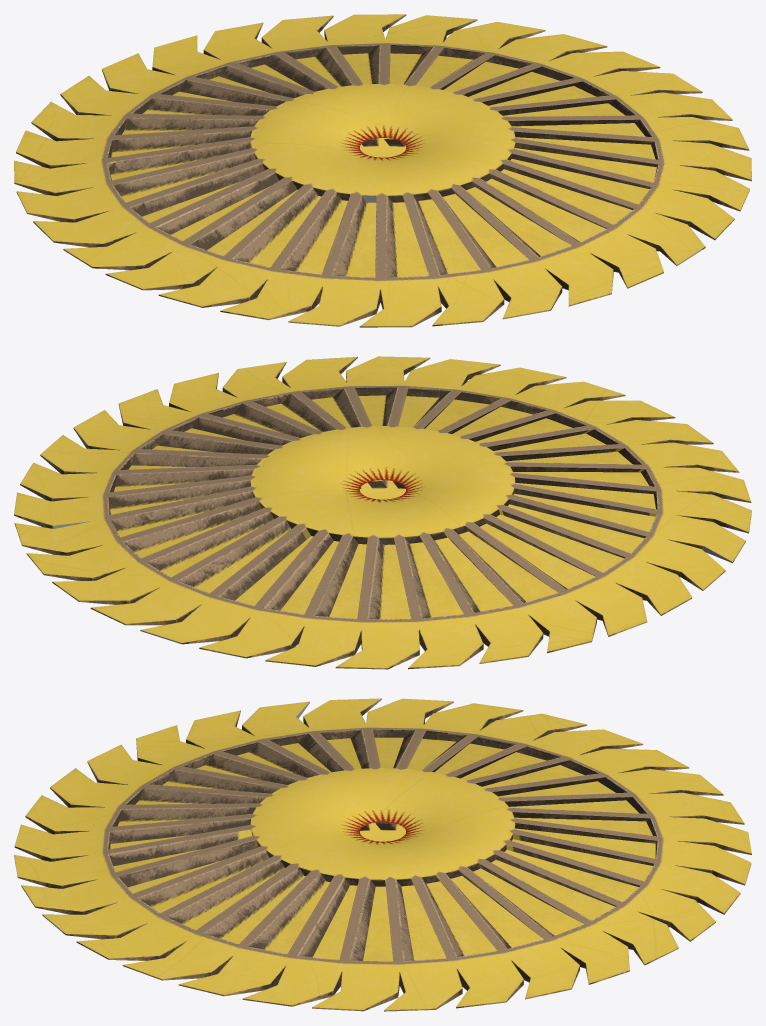
The model's file is Chakra.glb.
The picture shows the model from 3 angles, top to bottom: view 1: azimuth 30°, elevation 25°; view 2: azimuth 150°, elevation 25°; view 3: azimuth 270°, elevation 25°; orthographic projection.
Visible parts, largest first — view 1: Cylinder; view 2: Cylinder; view 3: Cylinder.
Part boxes in pixels (x1,y1,x2,y2): Cylinder: [14, 14, 751, 327]; Cylinder: [14, 356, 751, 669]; Cylinder: [14, 698, 751, 1011].
Bounding box in the file's own units: 10.97 × 1.11 × 10.97.
Materials: 1 (1 with a texture image).
